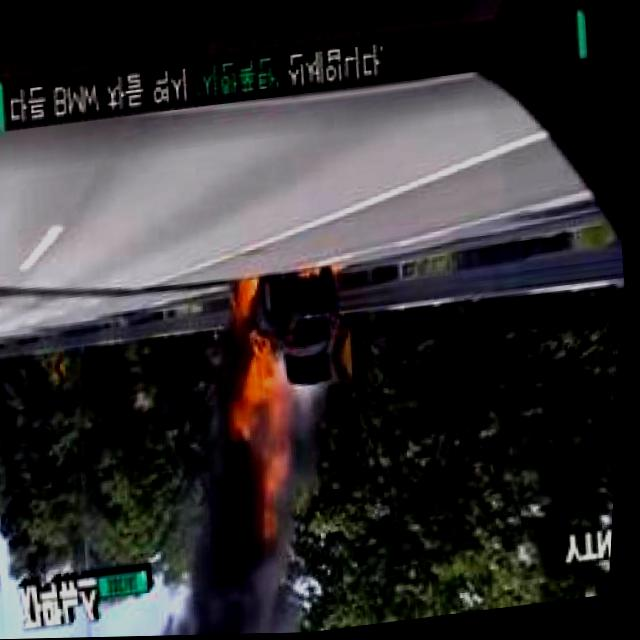helmet: (207, 335, 317, 551), (223, 273, 272, 340)
